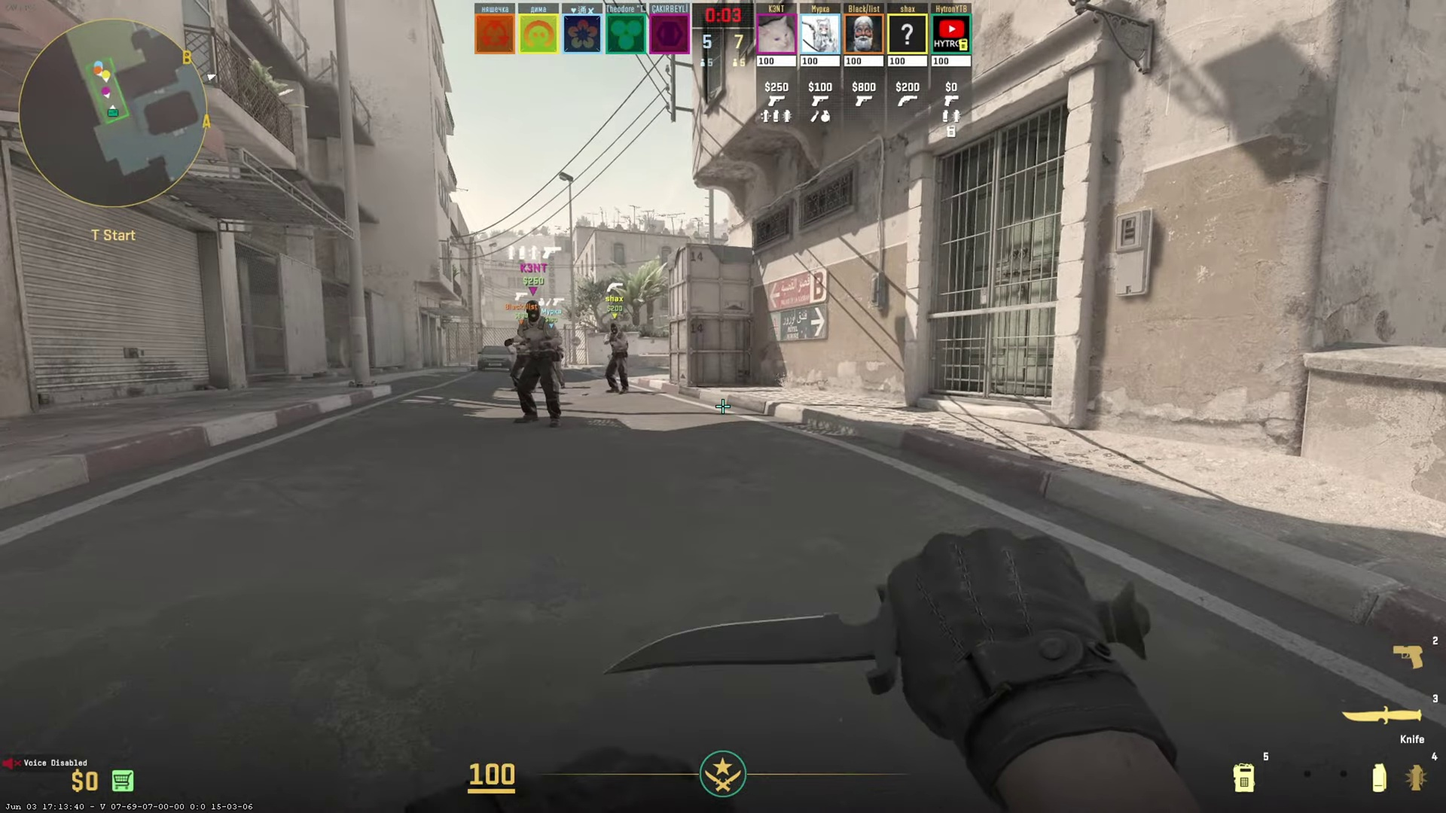Terrorist: (519, 300, 560, 428), (605, 323, 629, 394)
